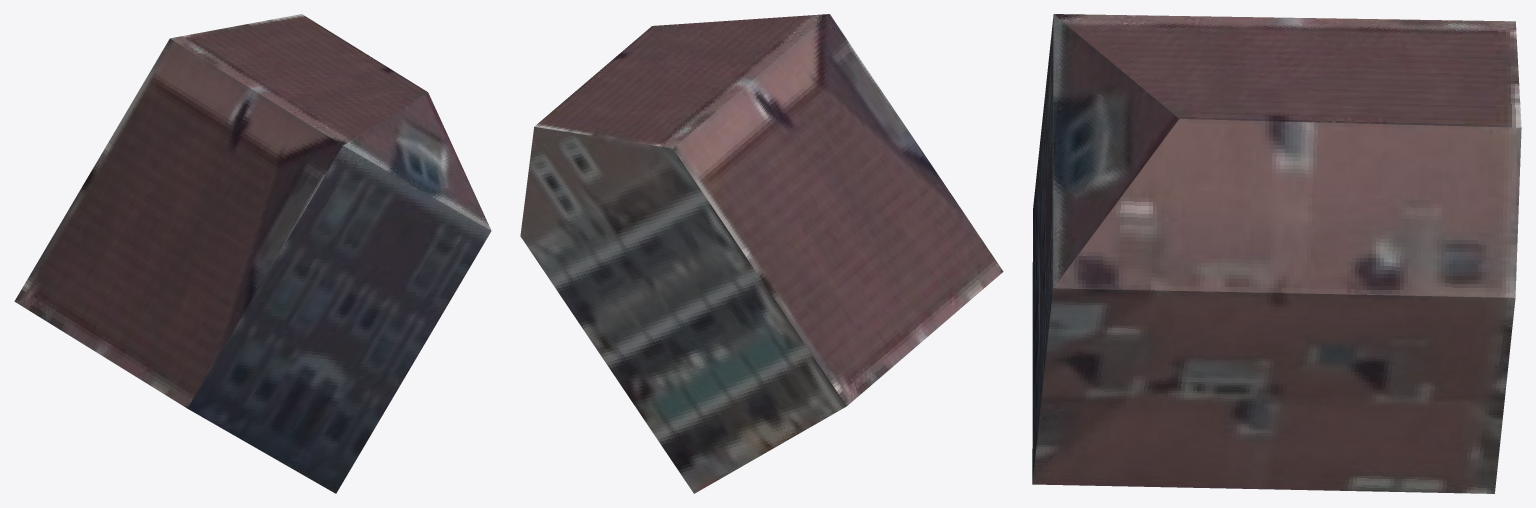
3 views of the same model, side by side, from view 1: azimuth 30°, elevation 25°; view 2: azimuth 150°, elevation 25°; view 3: azimuth 270°, elevation 25° (orthographic). The views are drawn at different scales.
Parts seen in each view (by area): view 1: BAG_0599100000760399; view 2: BAG_0599100000760399; view 3: BAG_0599100000760399.
Part boxes in pixels (x1,y1,x2,y2): BAG_0599100000760399: (14,14,491,493); BAG_0599100000760399: (520,14,1003,493); BAG_0599100000760399: (1032,14,1521,493).
Bounding box in the file's own units: 13.28 × 13.84 × 12.38.
Materials: 2 (1 with a texture image).
